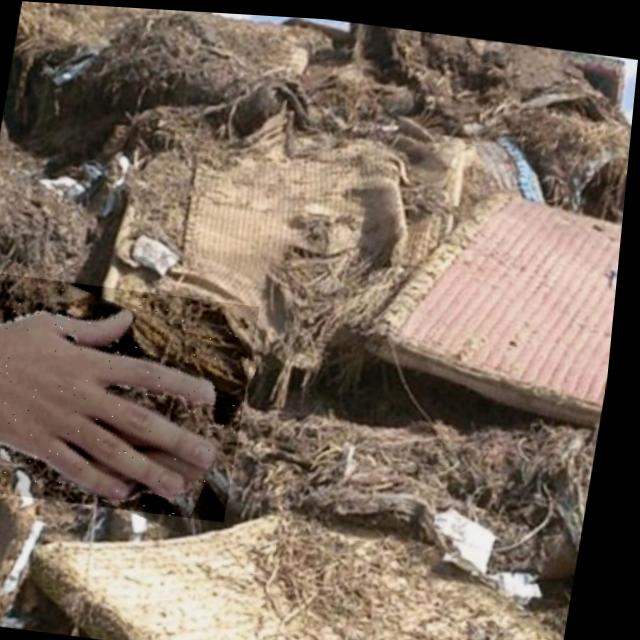Person in Rubble: (0, 270, 267, 519)
